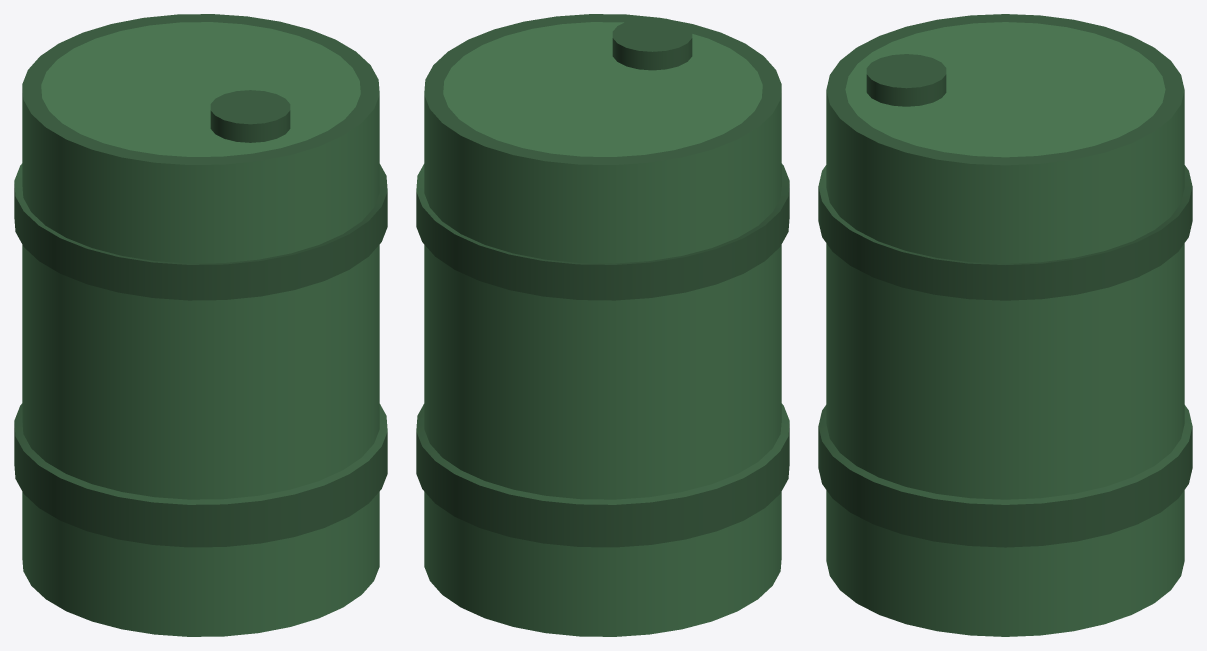
The model's file is Barrel.fbx.
3 views of the same model, side by side, from view 1: azimuth 30°, elevation 25°; view 2: azimuth 150°, elevation 25°; view 3: azimuth 270°, elevation 25° (orthographic).
Visible parts, largest first — view 1: Barrel; view 2: Barrel; view 3: Barrel.
Boxes of the visible parts, x1=… form: Barrel: x1=14, y1=14, x2=387, y2=636; Barrel: x1=416, y1=14, x2=789, y2=636; Barrel: x1=818, y1=14, x2=1192, y2=636.
Bounding box in the file's own units: 1.03 × 1.49 × 1.03.
